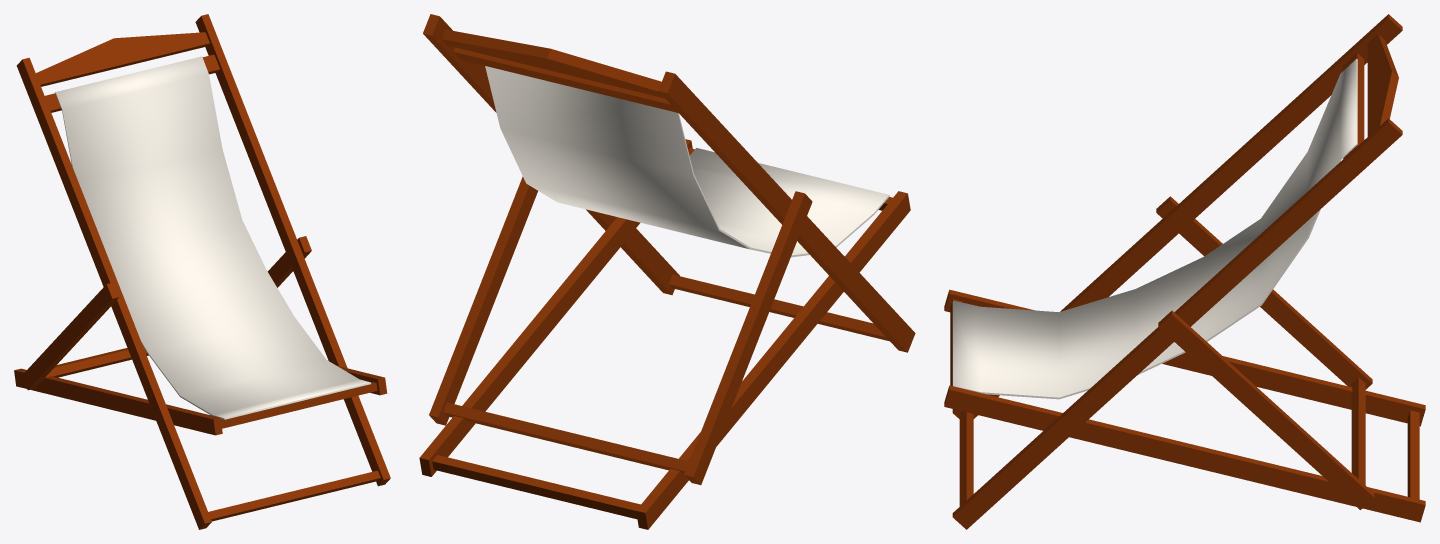
The model's file is reposera_2.glb.
3 views of the same model, side by side, from view 1: azimuth 30°, elevation 25°; view 2: azimuth 150°, elevation 25°; view 3: azimuth 270°, elevation 25° (orthographic). The views are drawn at different scales.
Visible parts, largest first — view 1: reposera_2; view 2: reposera_2; view 3: reposera_2.
Boxes of the visible parts, x1,y1,x2,y2 form: reposera_2: (14,14,390,529); reposera_2: (419,14,915,529); reposera_2: (944,14,1425,529).
Bounding box in the file's own units: 60 × 97.7 × 105.
